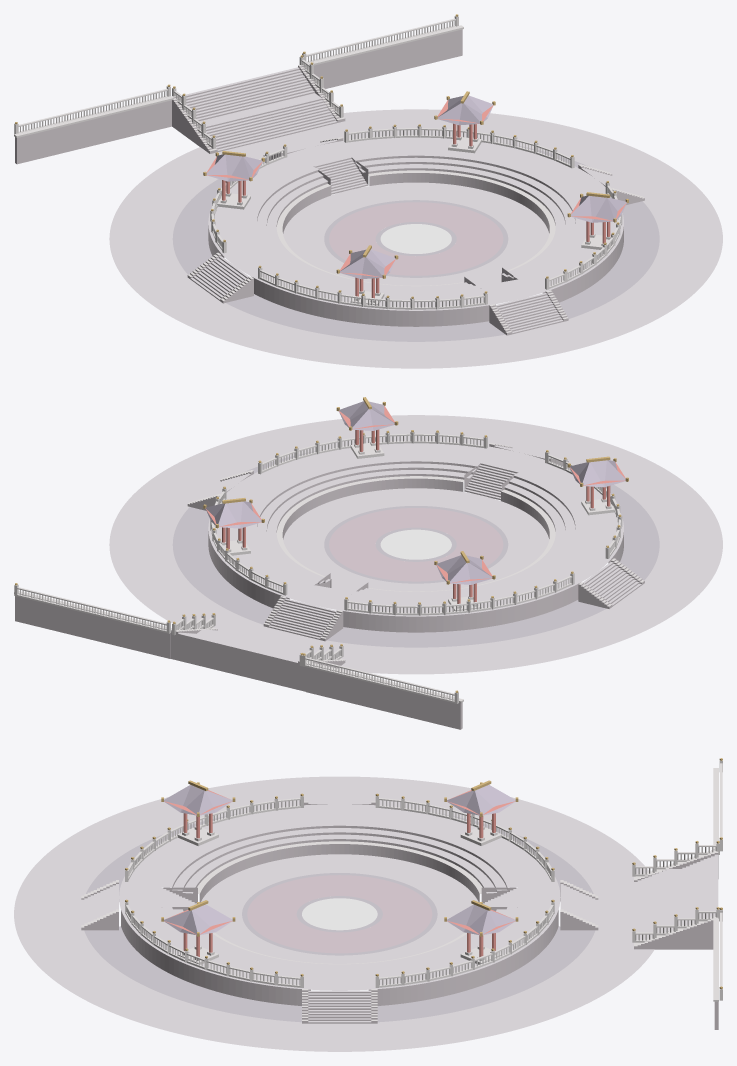
The model's file is central_plaza.glb.
The picture shows the model from 3 angles, top to bottom: view 1: azimuth 30°, elevation 25°; view 2: azimuth 150°, elevation 25°; view 3: azimuth 270°, elevation 25°; orthographic projection. The views are drawn at different scales.
Visible parts, largest first — view 1: central_plaza; view 2: central_plaza; view 3: central_plaza.
Boxes of the visible parts, <box> form: central_plaza: <box>14,14,722,368</box>; central_plaza: <box>14,397,722,729</box>; central_plaza: <box>14,758,722,1051</box>.
Size of the model in its own units: 62 by 7.35 by 67.46.
9 materials, 8 textured.
